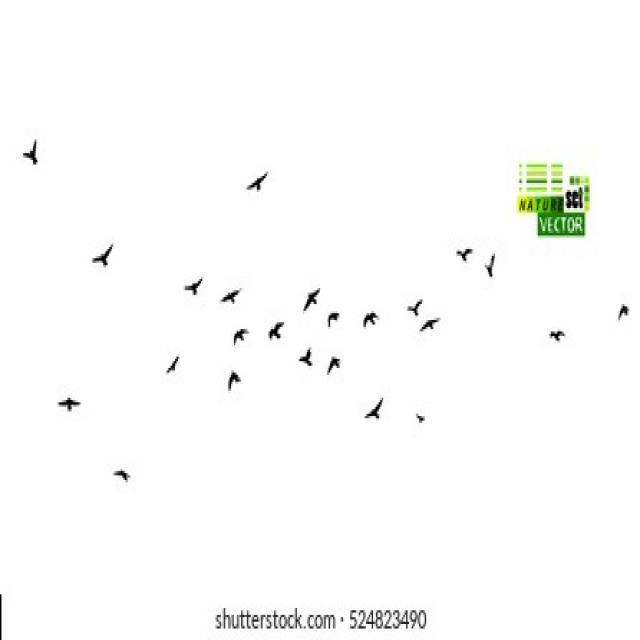bird: (225, 127, 274, 207), (146, 310, 184, 386), (438, 207, 473, 284), (296, 254, 328, 336), (43, 370, 86, 430), (605, 265, 640, 338), (94, 438, 138, 486), (74, 217, 110, 272), (288, 327, 324, 377), (177, 238, 205, 302), (396, 262, 422, 326), (362, 385, 392, 440), (541, 300, 573, 350), (218, 260, 244, 311), (358, 290, 384, 341), (208, 368, 251, 396), (409, 310, 452, 338), (14, 124, 39, 172), (263, 306, 288, 354), (323, 344, 351, 385), (477, 239, 500, 287), (409, 382, 429, 436), (322, 294, 342, 335), (226, 316, 253, 340)
